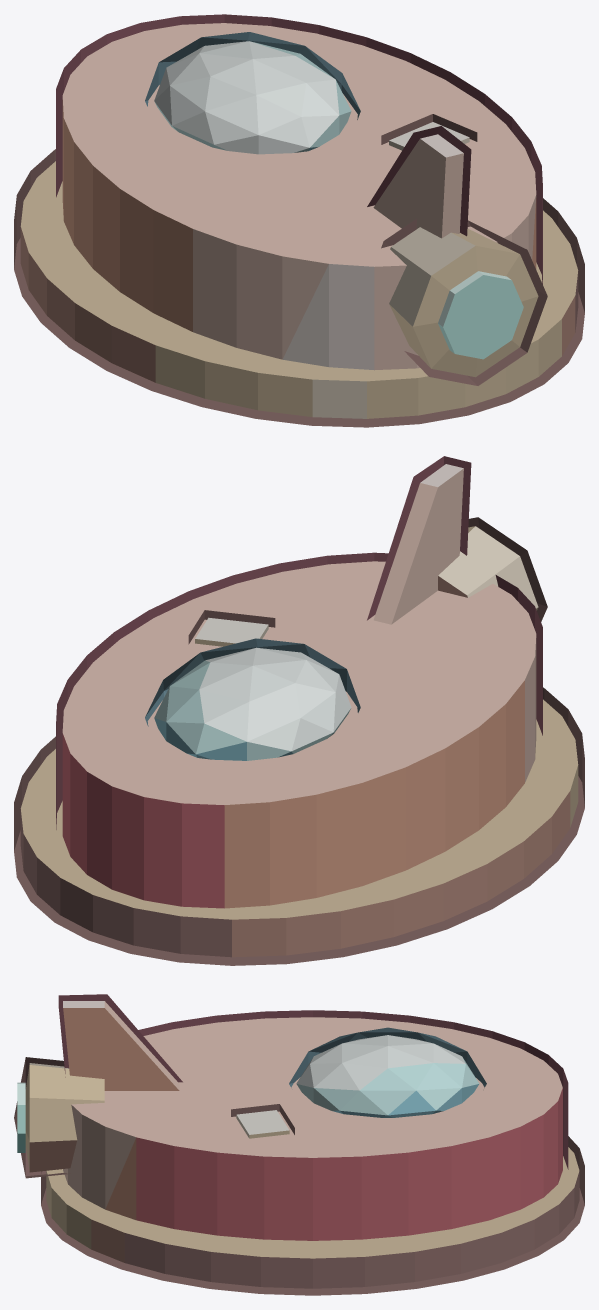
File: ship_hover_sled_c0.glb
The picture shows the model from 3 angles, top to bottom: view 1: azimuth 30°, elevation 25°; view 2: azimuth 150°, elevation 25°; view 3: azimuth 270°, elevation 25°; orthographic projection. The views are drawn at different scales.
Parts seen in each view (by area): view 1: ship_hover_sled_c0; view 2: ship_hover_sled_c0; view 3: ship_hover_sled_c0.
Part boxes in pixels (x1,y1,x2,y2): ship_hover_sled_c0: (14,14,584,427); ship_hover_sled_c0: (14,456,584,965); ship_hover_sled_c0: (14,994,584,1295).
Size of what is drawn, in the model's own units: 5.13 by 2.73 by 6.86.
